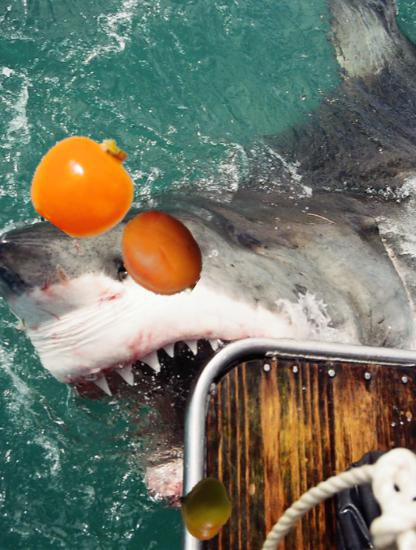Apple: (173, 476, 237, 540)
Apricot: (116, 209, 207, 300)
Physalis: (34, 131, 140, 237)
